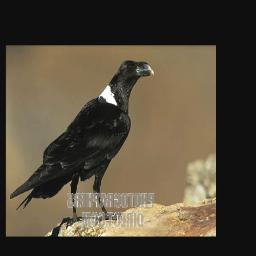Crow: (9, 60, 155, 229)
